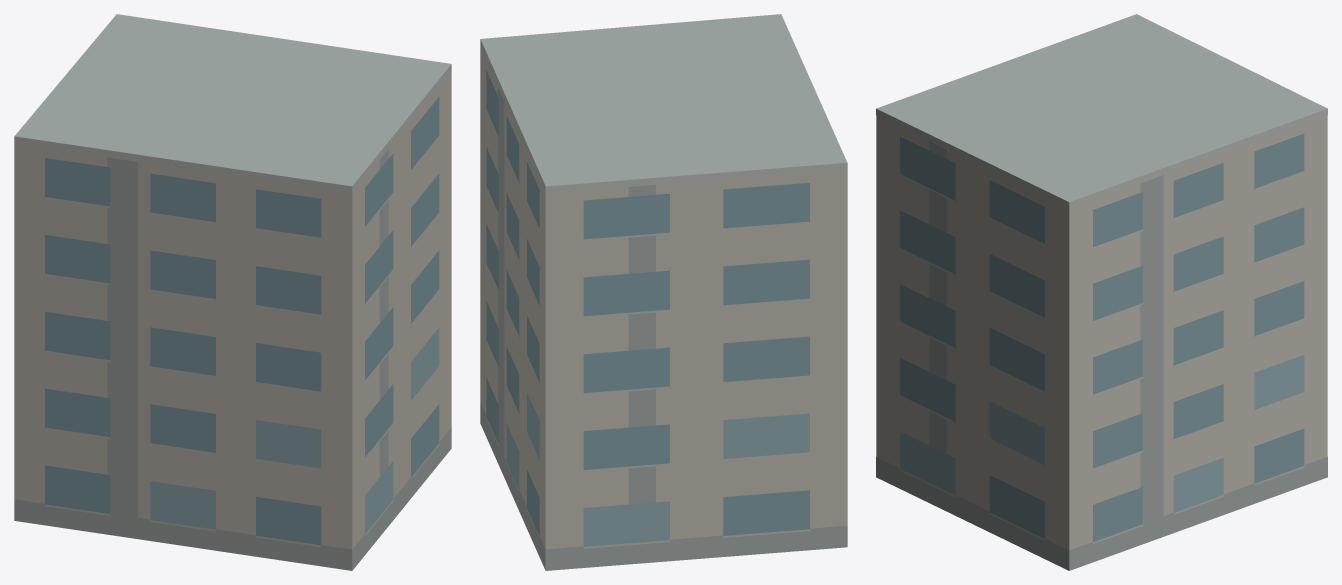
File: survey-upis-32640417.glb
3 renders of one model, left to right at view 1: azimuth 30°, elevation 25°; view 2: azimuth 150°, elevation 25°; view 3: azimuth 270°, elevation 25°, orthographic. The views are drawn at different scales.
Visible parts, largest first — view 1: survey-upis-32640417.tmp; view 2: survey-upis-32640417.tmp; view 3: survey-upis-32640417.tmp.
Boxes of the visible parts, x1,y1,x2,y2 form: survey-upis-32640417.tmp: [14, 14, 451, 570]; survey-upis-32640417.tmp: [480, 14, 847, 570]; survey-upis-32640417.tmp: [876, 14, 1327, 570].
Bounding box in the file's own units: 14.35 × 13.1 × 14.55.
